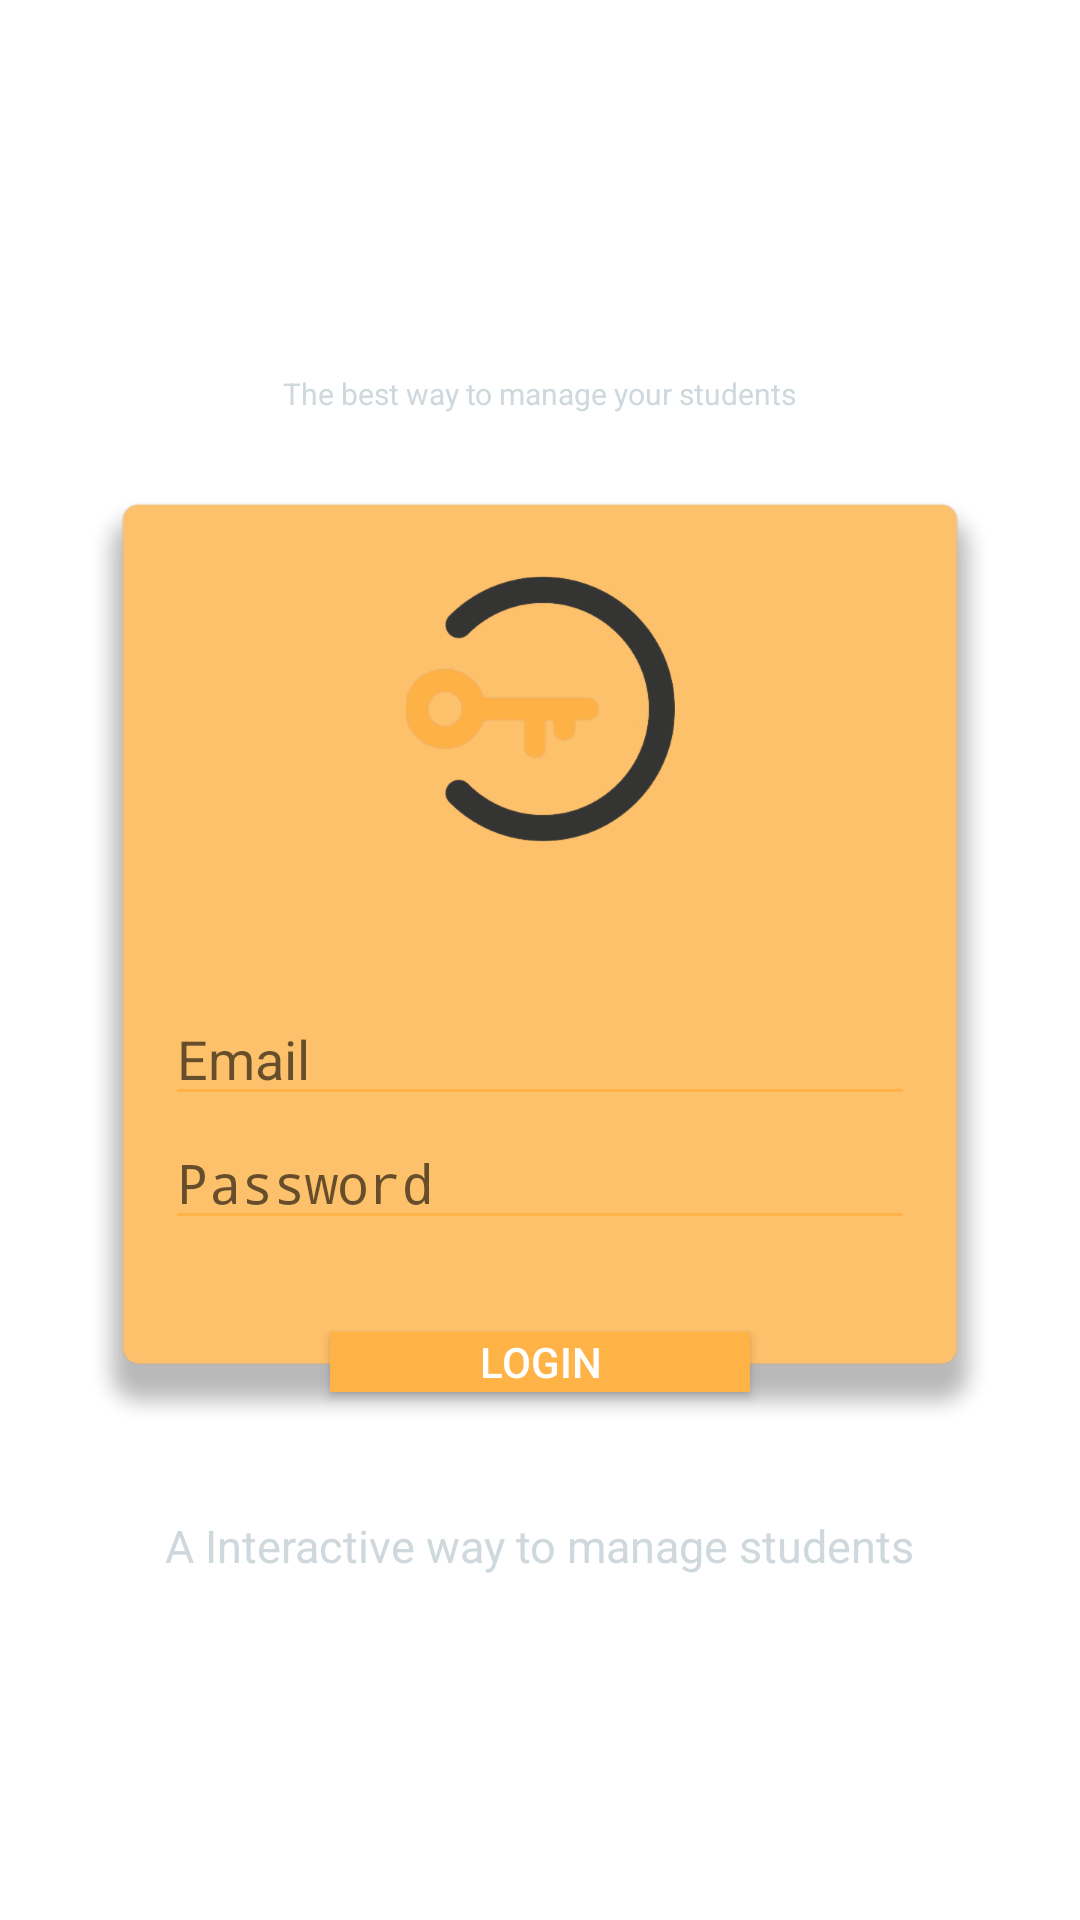

Named icons in this screenshot (1080x1920) and their centers, [x,y]:
plogin: [540,708]
